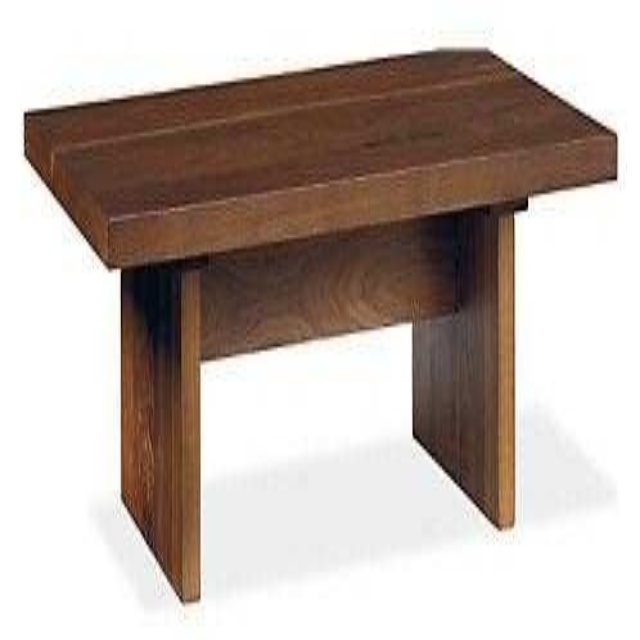obstacle: (24, 51, 616, 599)
